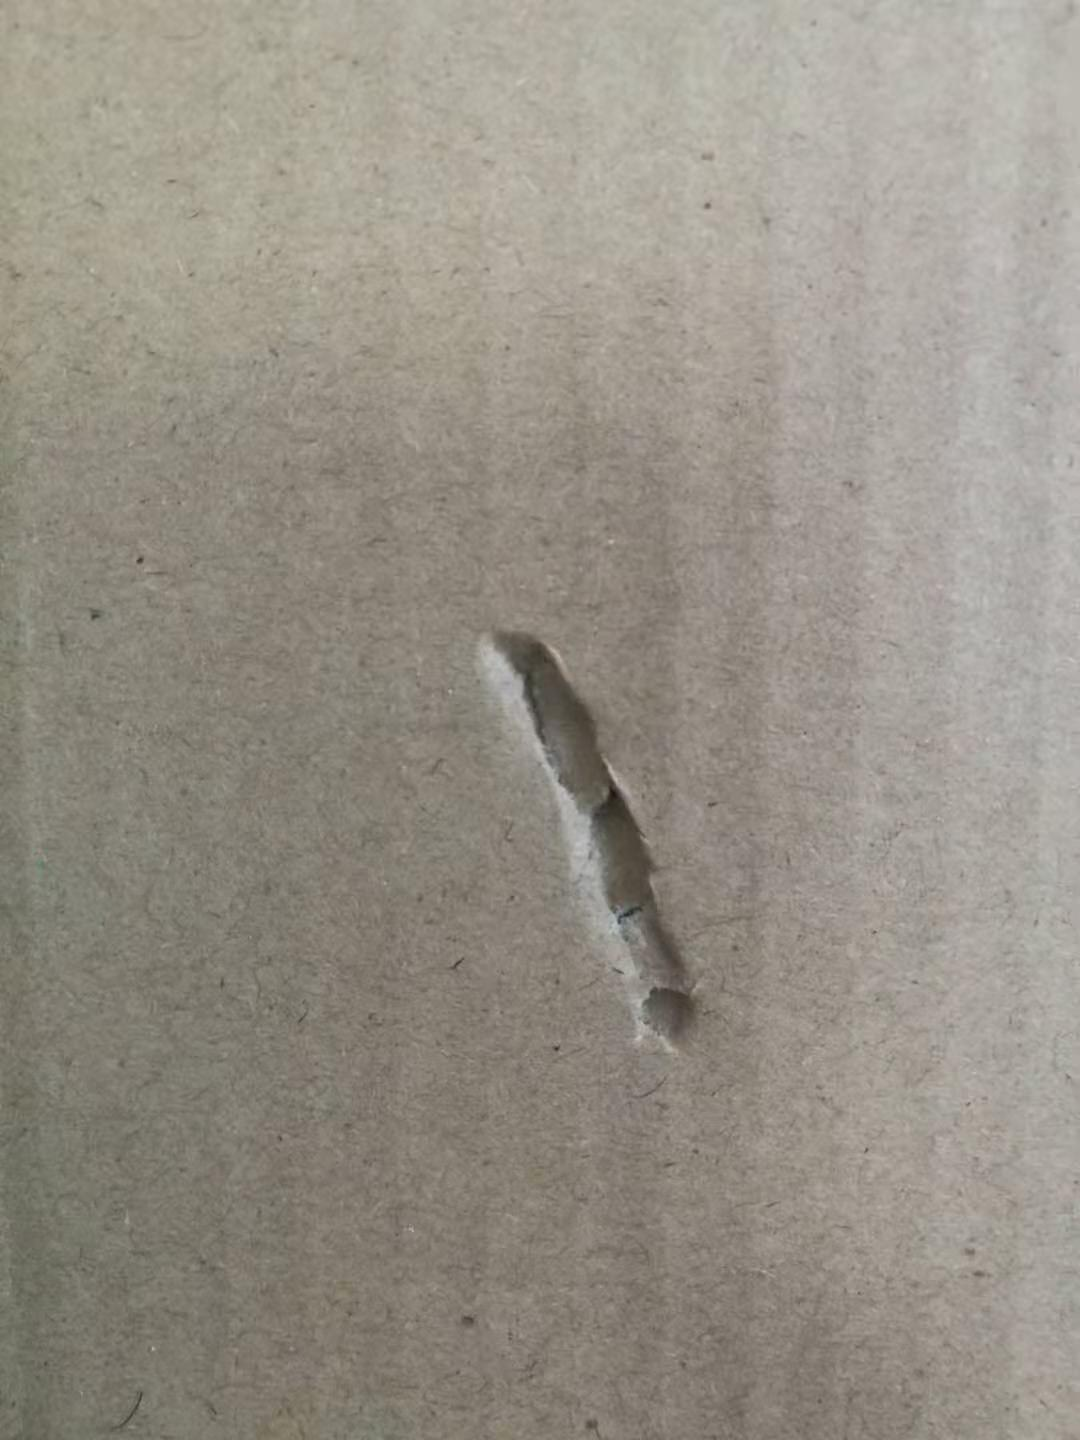defect: (442, 582, 777, 1108)
